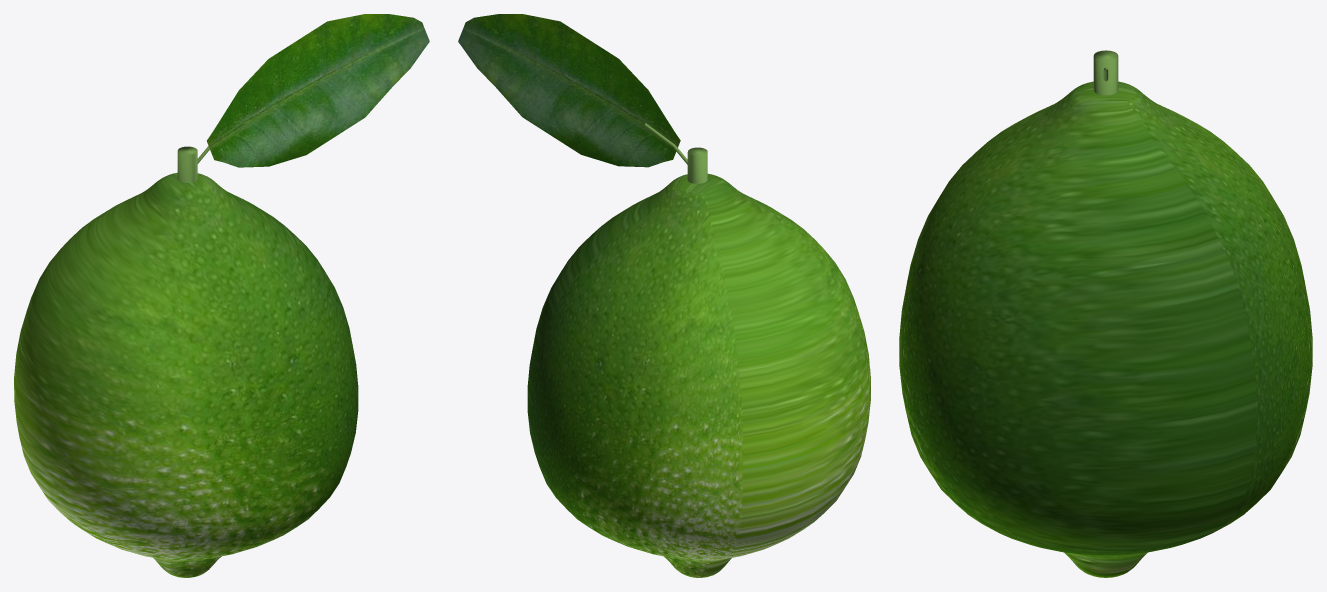
The model's file is jeruk_nipis.glb.
3 renders of one model, left to right at view 1: azimuth 30°, elevation 25°; view 2: azimuth 150°, elevation 25°; view 3: azimuth 270°, elevation 25°, orthographic. The views are drawn at different scales.
Parts seen in each view (by area): view 1: Cylinder.001; view 2: Cylinder.001; view 3: Cylinder.001.
Part boxes in pixels (<box>): Cylinder.001: <box>14,14,429,577</box>; Cylinder.001: <box>458,14,870,577</box>; Cylinder.001: <box>899,50,1312,577</box>.
Size of the model in its own units: 0.1363 by 0.1739 by 0.1024.
3 materials, 2 textured.
